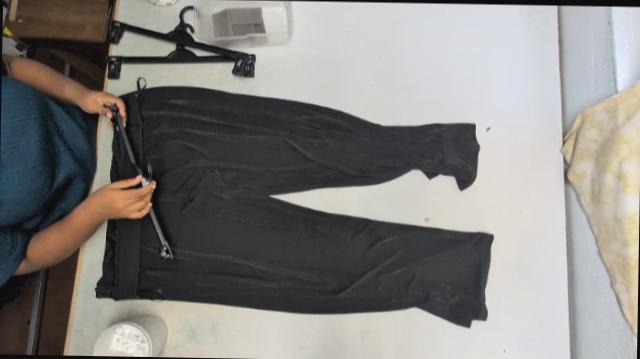new-garment: (96, 85, 493, 326)
